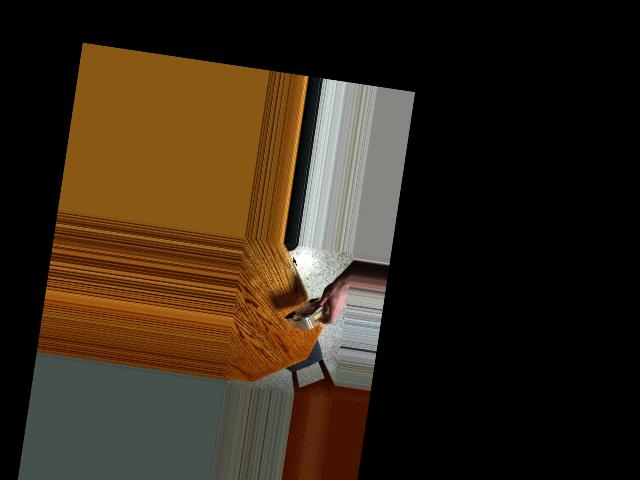cheese: (286, 287, 333, 343)
